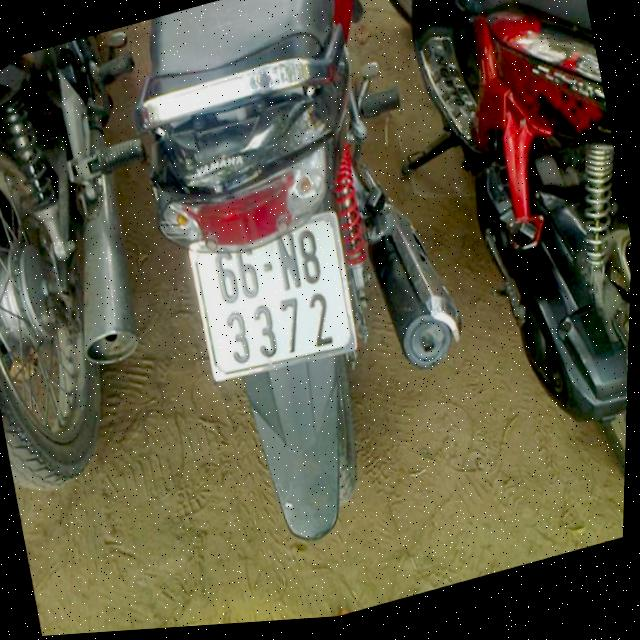motorcycle: (106, 0, 511, 577), (352, 0, 640, 583), (0, 19, 219, 513)
plate: (180, 200, 370, 394)
